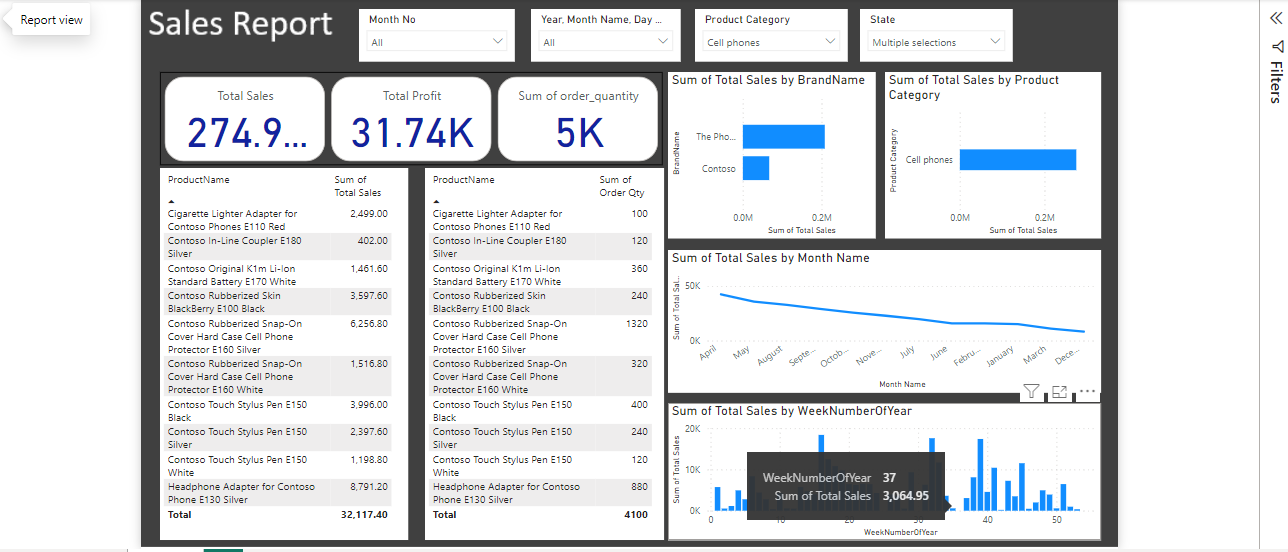

This screenshot's page, from the dashboard's own definition file:
{"tool":"powerbi","page":{"name":"Page 1","canvas":[1280,720],"ordinal":0},"visuals":[{"type":"slicer","fields":{"Values":["date_table.Month No"]},"box":[285.7,12.9,204.3,68.6],"z":0},{"type":"cardVisual","fields":{"Data":["Measures Table.Total Sales","Measures Table.Total Profit","Measures Table.Sum of order_quantity"]},"box":[25,95,658.3,121.7],"z":1000},{"type":"lineChart","fields":{"Category":["date_table.Month Name"],"Y":["Sum(sales_data.Total Sales)"]},"box":[690,328.3,566.7,186.7],"z":2000},{"type":"columnChart","fields":{"Category":["date_table.WeekNumberOfYear"],"Y":["Sum(sales_data.Total Sales)"]},"box":[690,528.3,566.7,180],"z":3000},{"type":"pivotTable","fields":{"Rows":["sales_product.ProductName"],"Values":["Sum(sales_data.Order Qty)"]},"box":[371.4,221.4,312.9,487.1],"z":4000},{"type":"pivotTable","fields":{"Rows":["sales_product.ProductName"],"Values":["Sum(sales_data.Total Sales)"]},"box":[25,221.7,325,486.7],"z":5000},{"type":"barChart","fields":{"Category":["sales_product.BrandName"],"Y":["Sum(sales_data.Total Sales)"]},"box":[690,95,271.7,218.3],"z":6000},{"type":"barChart","fields":{"Category":["sales_product_subcategory.Product Category"],"Y":["Sum(sales_data.Total Sales)"]},"box":[973.3,95,283.3,218.3],"z":7000},{"type":"slicer","fields":{"Values":["date_table.Year","date_table.Month Name","date_table.Day Number"]},"box":[510,12.9,195.7,68.6],"z":8000},{"type":"slicer","fields":{"Values":["sales_product_subcategory.Product Category"]},"box":[725.7,12.9,200,68.6],"z":9000},{"type":"slicer","fields":{"Values":["sales_state.State"]},"box":[941.4,12.9,200,68.6],"z":10000}]}

Visuals, with their boxes in screenshot pixels (x1, y1, x2, y2):
slicer - date_table.Month No: 357 10 512 62
cardVisual - Measures Table.Total Sales x Measures Table.Total Profit: 160 72 659 164
lineChart - date_table.Month Name x Sum(sales_data.Total Sales): 664 249 1094 390
columnChart - date_table.WeekNumberOfYear x Sum(sales_data.Total Sales): 664 400 1094 537
pivotTable - sales_product.ProductName x Sum(sales_data.Order Qty): 422 168 660 537
pivotTable - sales_product.ProductName x Sum(sales_data.Total Sales): 160 168 406 537
barChart - sales_product.BrandName x Sum(sales_data.Total Sales): 664 72 870 237
barChart - sales_product_subcategory.Product Category x Sum(sales_data.Total Sales): 879 72 1093 237
slicer - date_table.Year x date_table.Month Name: 527 10 676 62
slicer - sales_product_subcategory.Product Category: 691 10 843 62
slicer - sales_state.State: 854 10 1006 62
